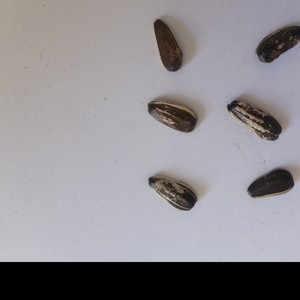girasol: (224, 98, 287, 144), (145, 171, 201, 215), (253, 23, 300, 66), (149, 18, 185, 74), (144, 99, 199, 135), (246, 167, 295, 202)
